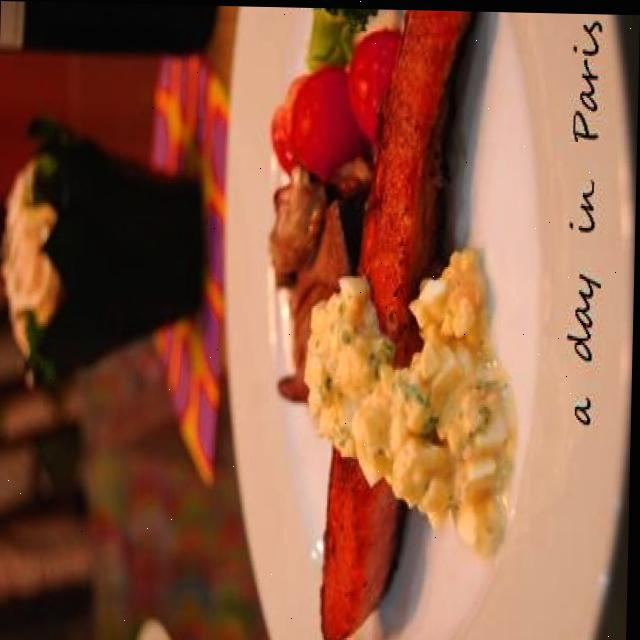熟制海鲜: (182, 3, 640, 274)
